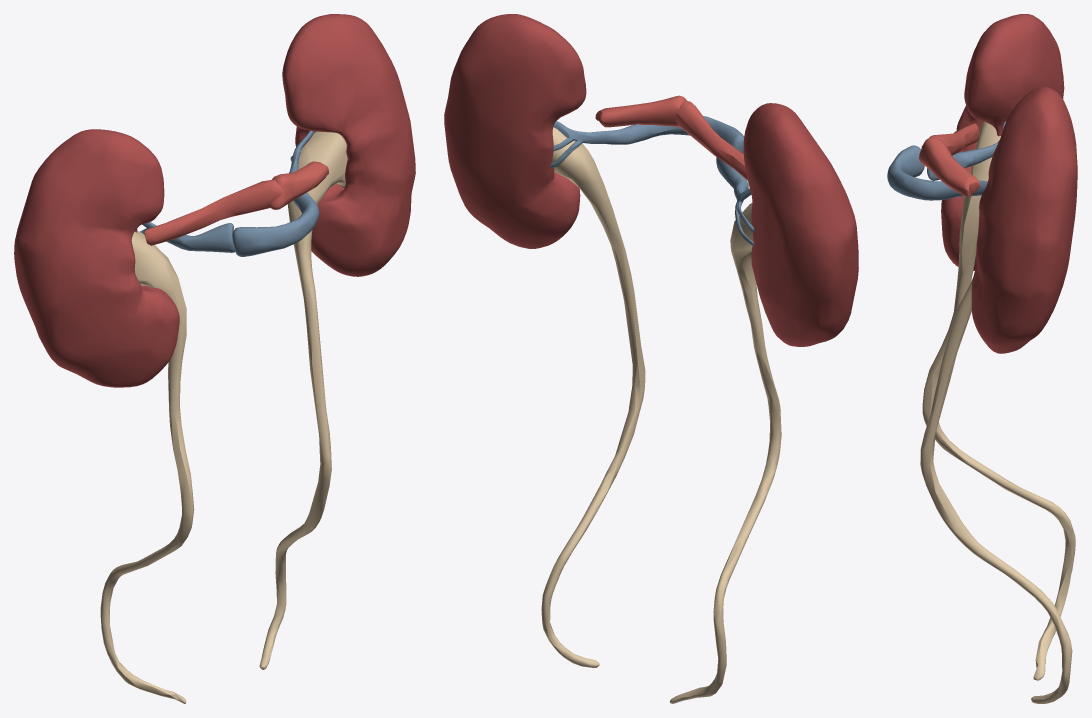
Rendered from kidneys.glb.
3 views of the same model, side by side, from view 1: azimuth 30°, elevation 25°; view 2: azimuth 150°, elevation 25°; view 3: azimuth 270°, elevation 25° (orthographic). The views are drawn at different scales.
Visible parts, largest first — view 1: FJ3147 · kidney, FJ3145 · kidney, FJ3144 · ureter, FJ3146 · ureter, FJ2038 · renal artery, FJ3477 · renal vein, FJ2046 · renal artery, FJ3577 · renal vein; view 2: FJ3145 · kidney, FJ3147 · kidney, FJ3144 · ureter, FJ3146 · ureter, FJ2046 · renal artery, FJ2038 · renal artery, FJ3477 · renal vein, FJ3478 · renal vein; view 3: FJ3145 · kidney, FJ3147 · kidney, FJ3146 · ureter, FJ3144 · ureter, FJ3477 · renal vein, FJ2046 · renal artery, FJ2038 · renal artery, FJ3577 · renal vein.
Boxes of the visible parts, box(x1,y1,x2,y2) form: FJ3147 · kidney: box(14, 129, 179, 387); FJ3145 · kidney: box(282, 14, 415, 276); FJ3144 · ureter: box(259, 131, 347, 669); FJ3146 · ureter: box(100, 231, 194, 703); FJ2038 · renal artery: box(144, 179, 288, 245); FJ3477 · renal vein: box(232, 166, 319, 256); FJ2046 · renal artery: box(269, 161, 328, 209); FJ3577 · renal vein: box(166, 223, 235, 252); FJ3145 · kidney: box(444, 14, 586, 248); FJ3147 · kidney: box(743, 103, 858, 346); FJ3144 · ureter: box(541, 127, 645, 667); FJ3146 · ureter: box(669, 203, 781, 703); FJ2046 · renal artery: box(595, 95, 686, 127); FJ2038 · renal artery: box(676, 100, 747, 180); FJ3477 · renal vein: box(605, 116, 744, 153); FJ3478 · renal vein: box(550, 121, 616, 167); FJ3145 · kidney: box(971, 86, 1077, 353); FJ3147 · kidney: box(941, 14, 1064, 270); FJ3146 · ureter: box(922, 121, 1075, 680); FJ3144 · ureter: box(920, 277, 1072, 703); FJ3477 · renal vein: box(887, 145, 987, 200); FJ2046 · renal artery: box(919, 137, 980, 196); FJ2038 · renal artery: box(921, 123, 979, 155); FJ3577 · renal vein: box(927, 148, 987, 180).
Size of the model in its own units: 2.13 by 3.35 by 0.8738.
